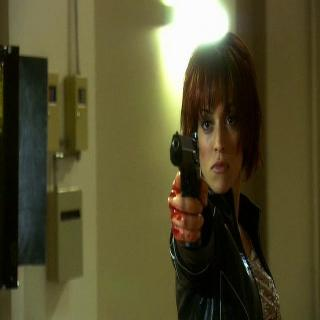gun: (164, 125, 202, 234)
